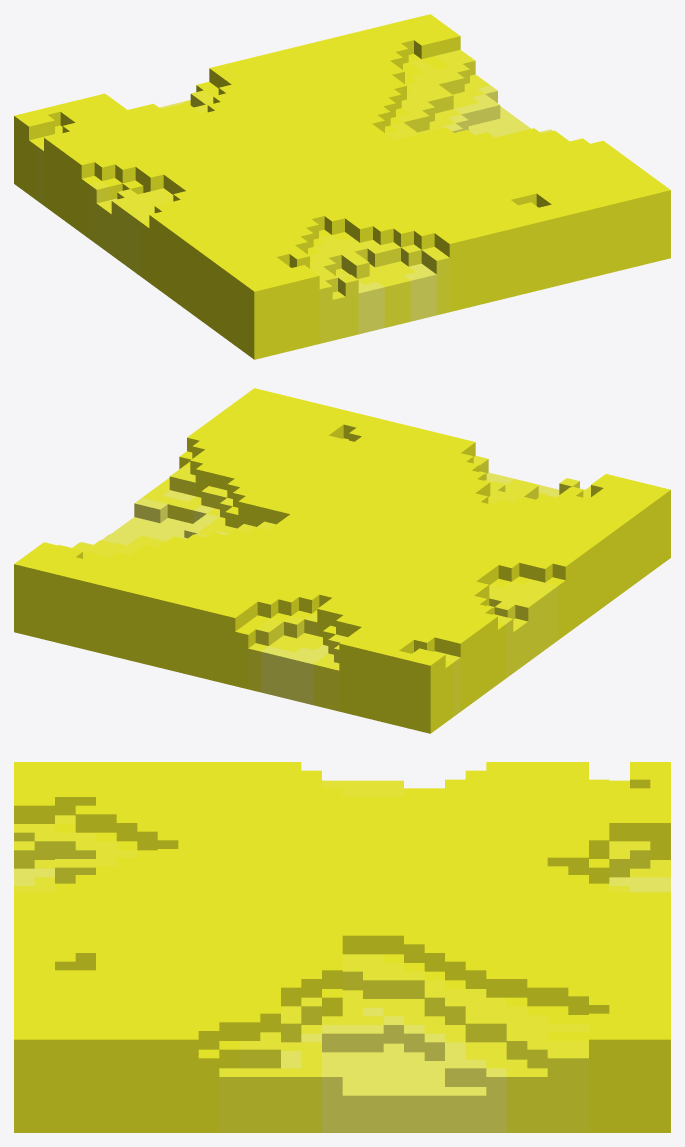
The model's file is Destert Map-12.obj.
3 views of the same model, one above another, from view 1: azimuth 30°, elevation 25°; view 2: azimuth 150°, elevation 25°; view 3: azimuth 270°, elevation 25° (orthographic). The views are drawn at different scales.
Bounding box in the file's own units: 3.2 × 0.5 × 3.2.
Materials: 1 (1 with a texture image).
